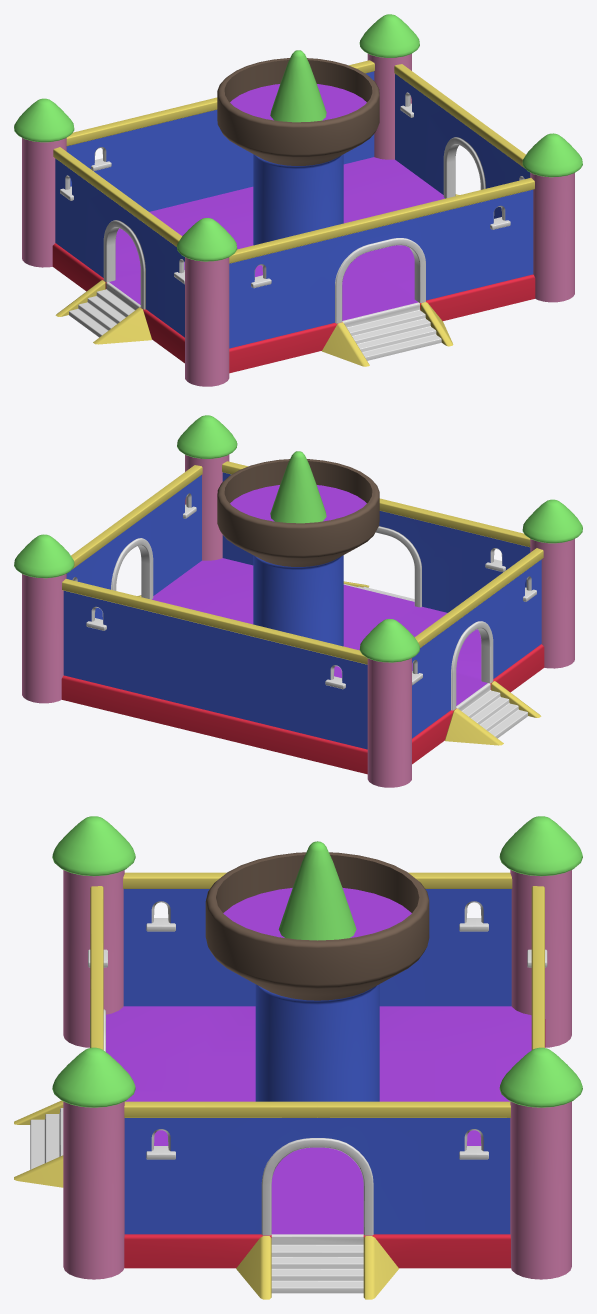
The model's file is Hut_01.fbx.
The picture shows the model from 3 angles, top to bottom: view 1: azimuth 30°, elevation 25°; view 2: azimuth 150°, elevation 25°; view 3: azimuth 270°, elevation 25°; orthographic projection. The views are drawn at different scales.
Parts seen in each view (by area): view 1: Cylinder.005; view 2: Cylinder.005; view 3: Cylinder.005.
Part boxes in pixels (bbox=[...]): Cylinder.005: bbox=[14, 14, 582, 386]; Cylinder.005: bbox=[14, 415, 582, 787]; Cylinder.005: bbox=[14, 816, 582, 1299].
Bounding box in the file's own units: 1980 × 953 × 1594.
